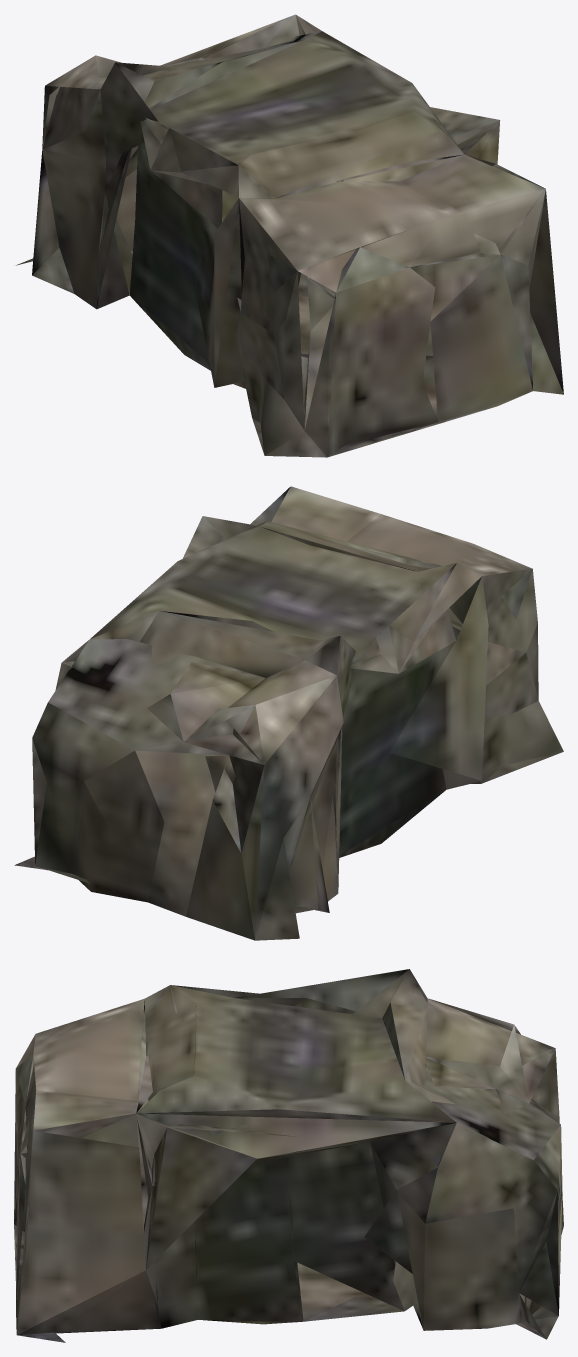
File: barracks_255553835_lod1.glb
The picture shows the model from 3 angles, top to bottom: view 1: azimuth 30°, elevation 25°; view 2: azimuth 150°, elevation 25°; view 3: azimuth 270°, elevation 25°; orthographic projection.
Bounding box in the file's own units: 8.99 × 7.08 × 13.91.
1 material, 1 textured.
